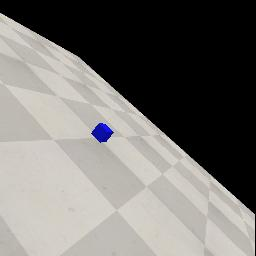box: (91, 123, 114, 143)
